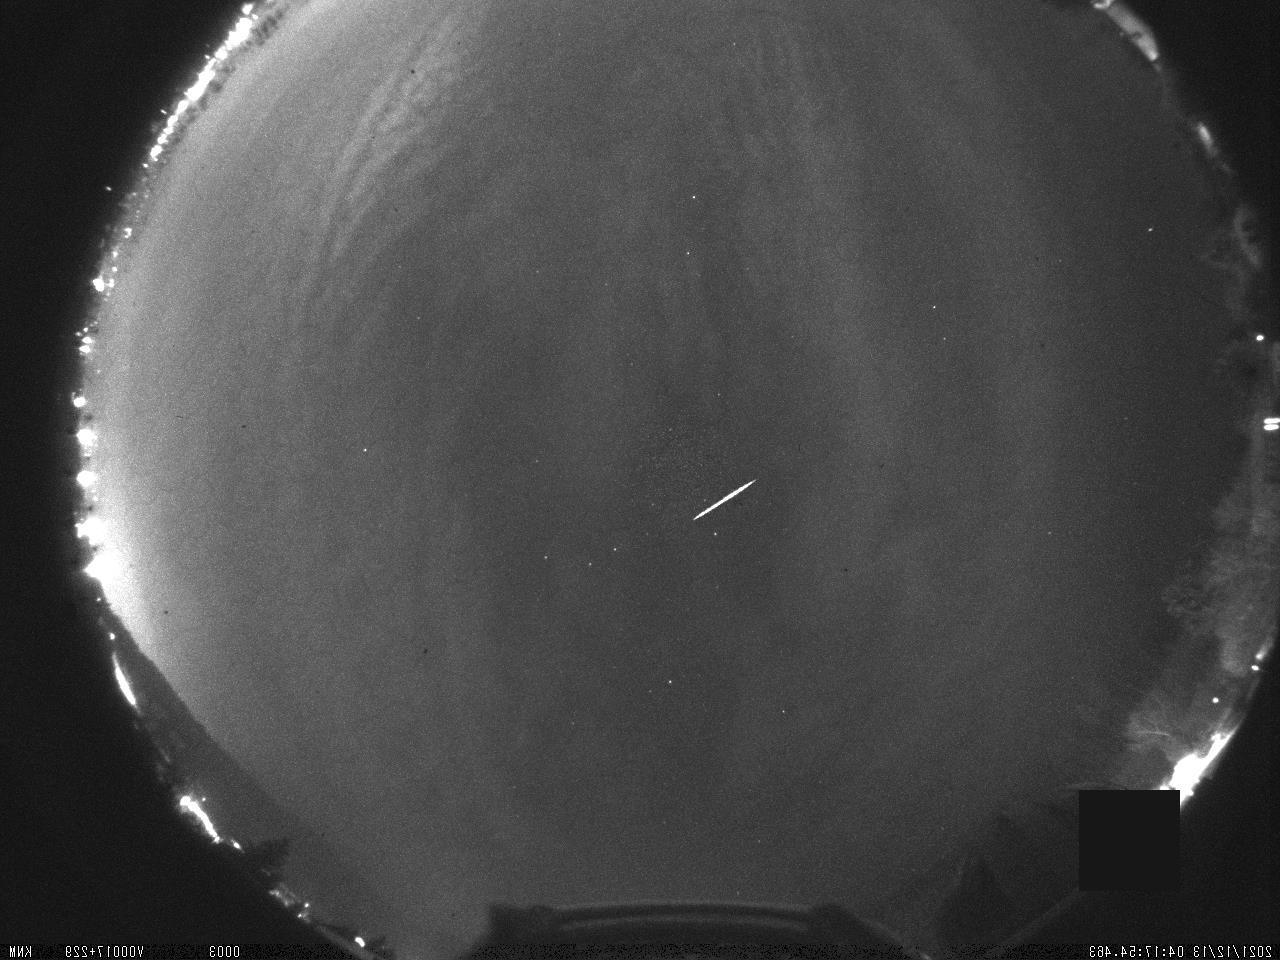meteor: (670, 469, 761, 542)
